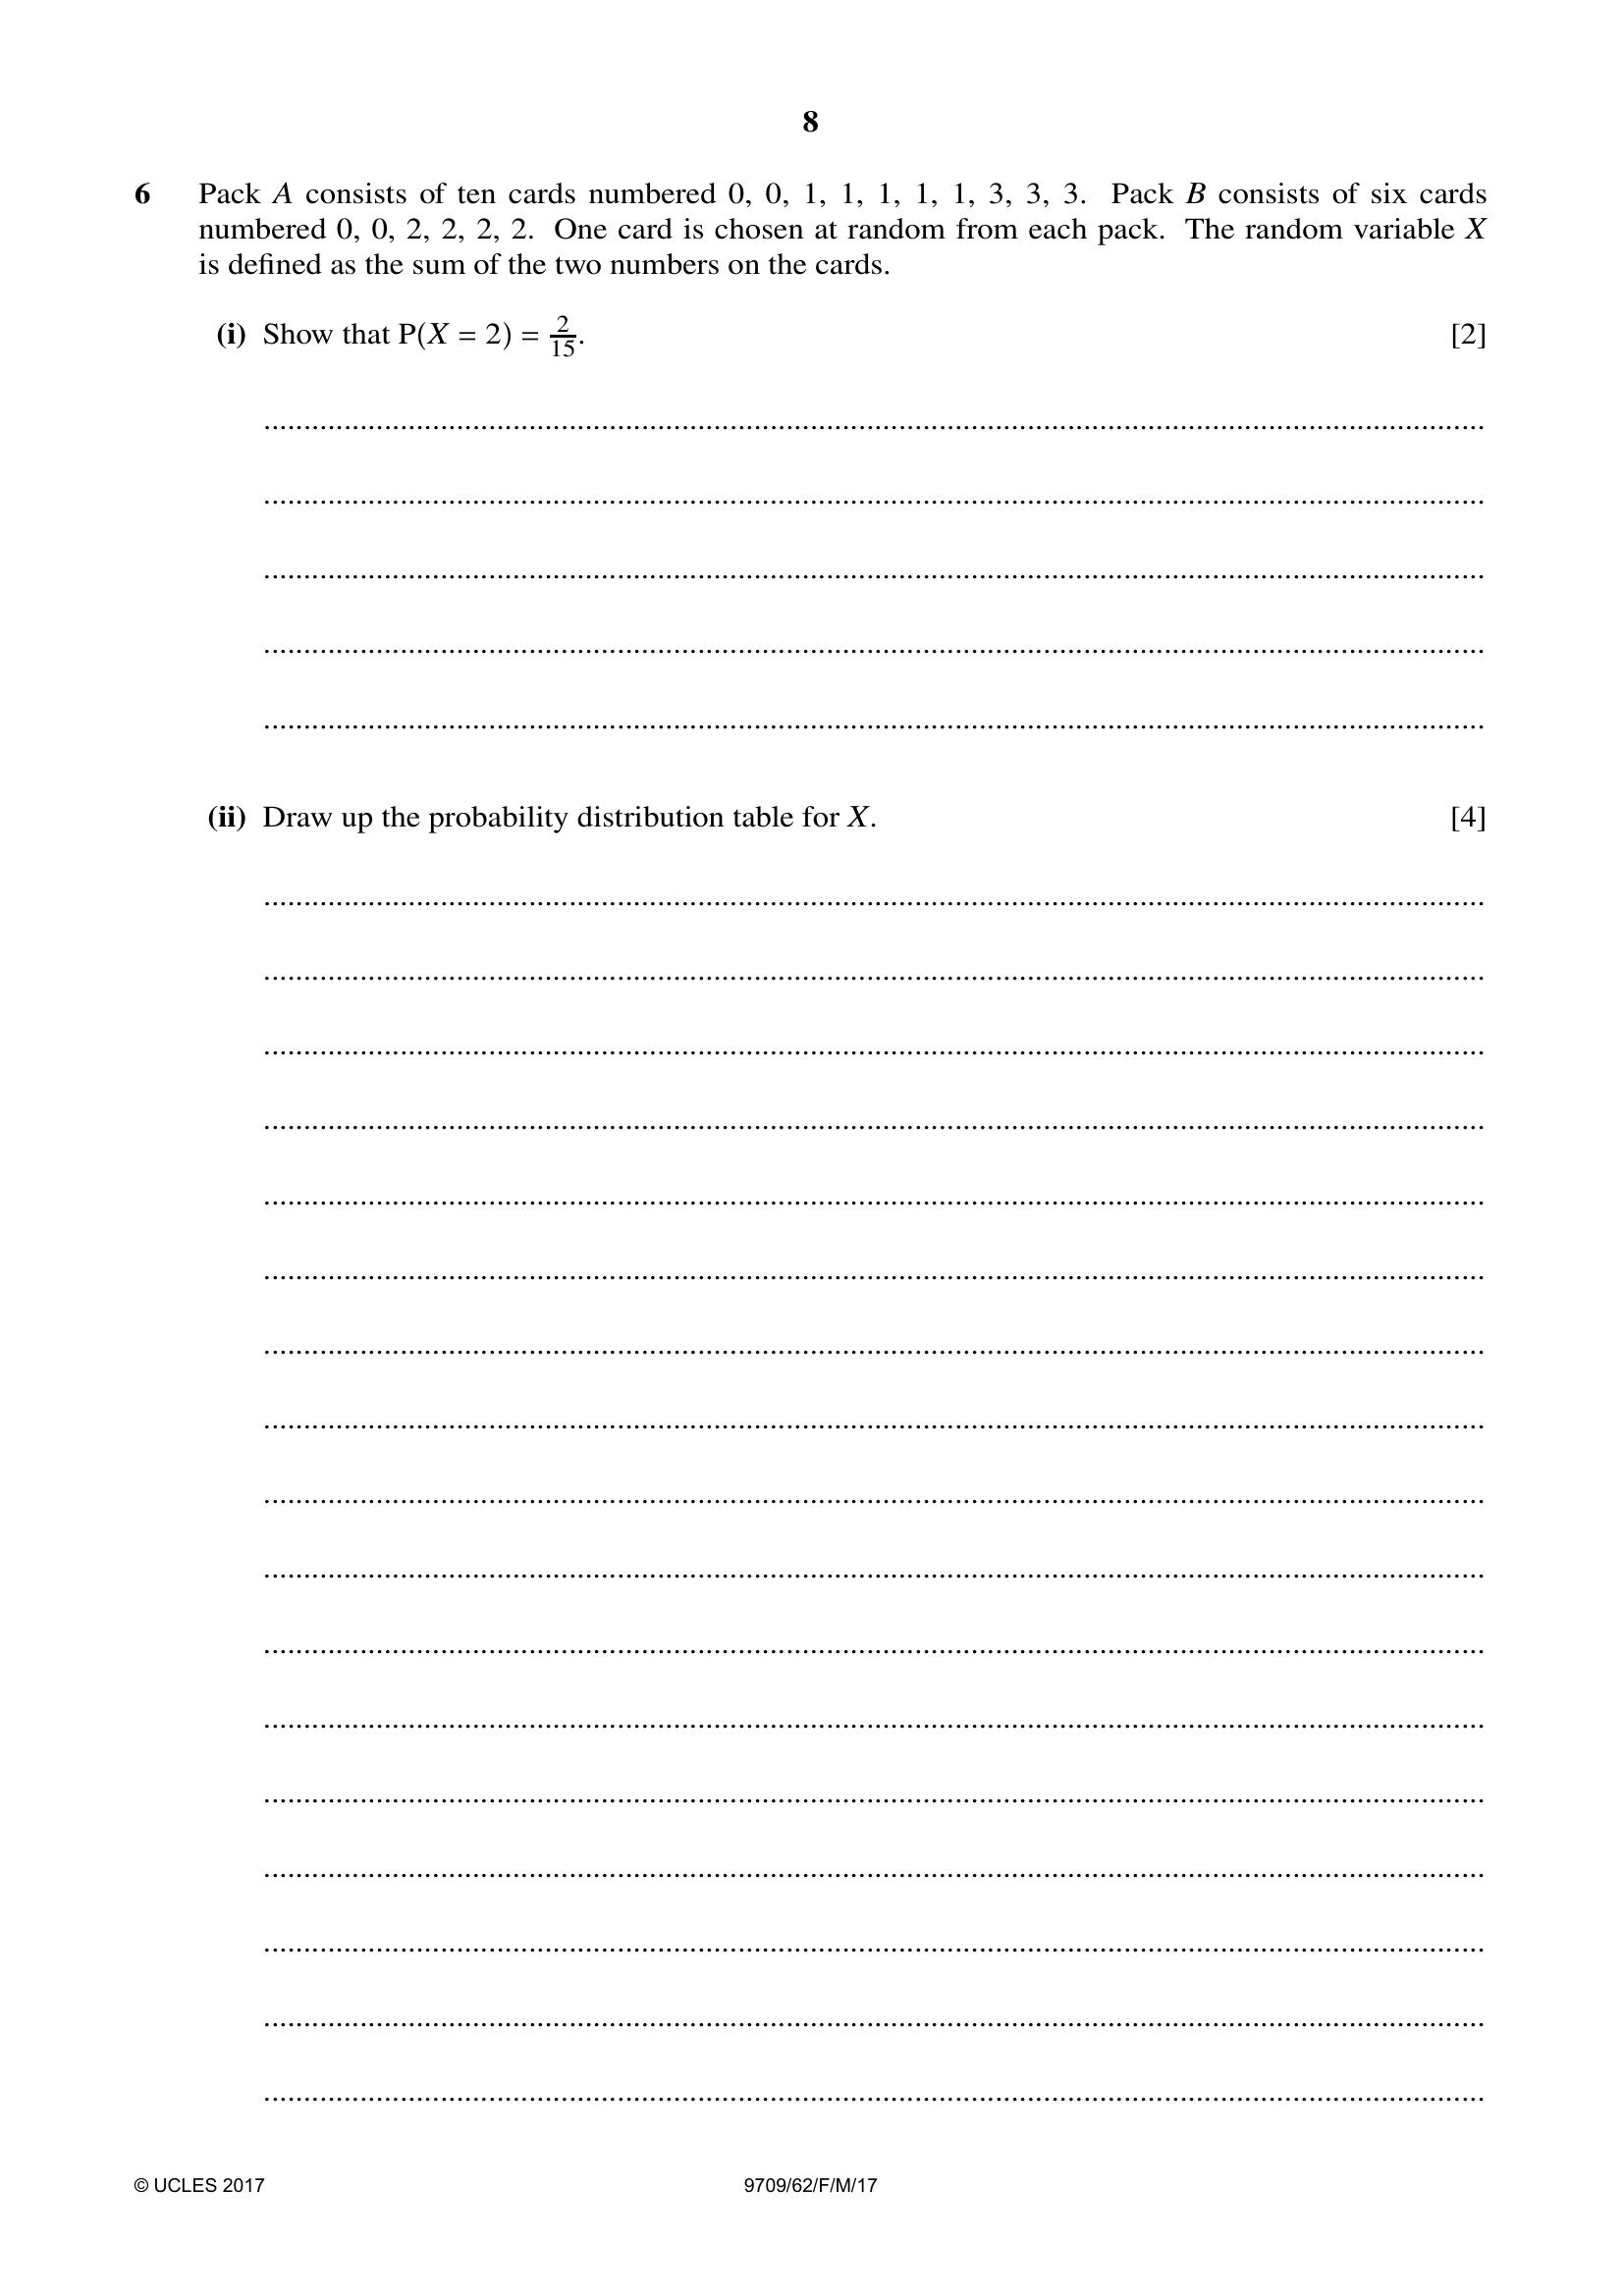question: (5, 151, 1616, 2122)
